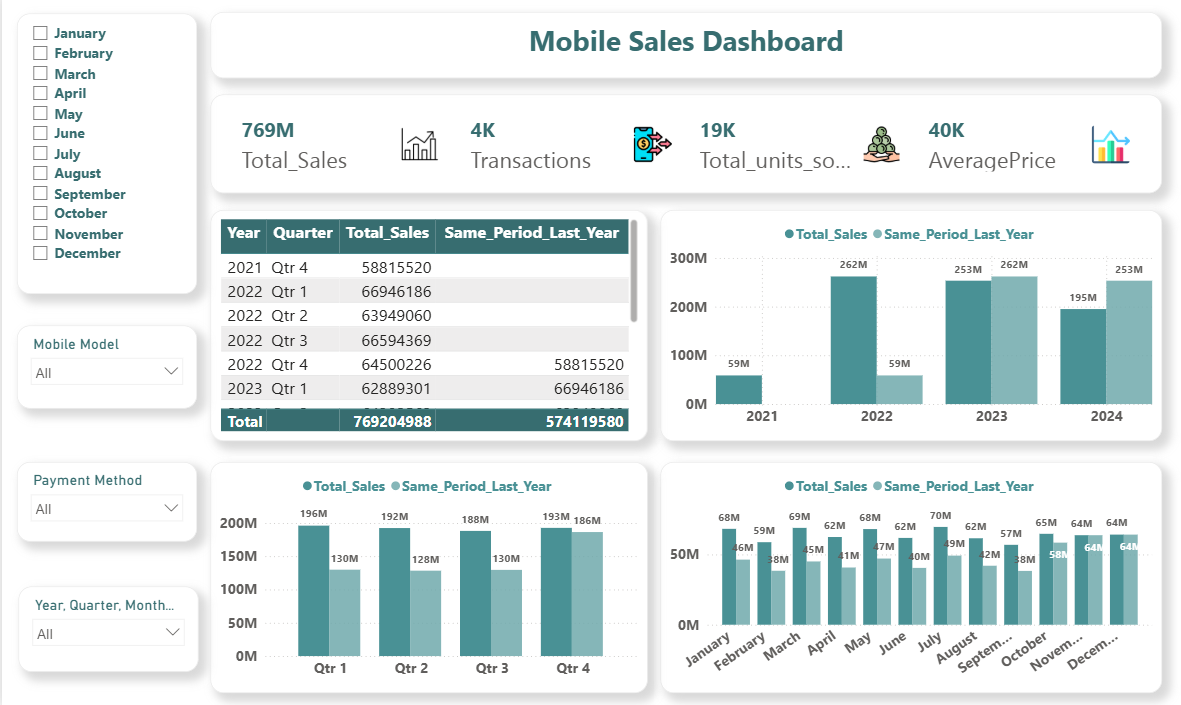

This screenshot's page, from the dashboard's own definition file:
{"tool":"powerbi","page":{"name":"Same_Period_LastYear","canvas":[1355,820],"ordinal":2},"visuals":[{"type":"slicer","fields":{"Values":["Custom_Calender.Date.Variation.Date Hierarchy.Month"]},"box":[17.4,21.7,206.5,321.7],"z":0},{"type":"cardVisual","fields":{"Data":["SalesData.Total_Sales","SalesData.Transactions","SalesData.Total_units_sold","SalesData.AveragePrice"]},"box":[239.6,115,1093,113.3],"z":1000},{"type":"slicer","fields":{"Values":["SalesData.Mobile Model"]},"box":[17.4,380.4,206.5,95.7],"z":2000},{"type":"slicer","fields":{"Values":["Custom_Calender.Date.Variation.Date Hierarchy.Year","Custom_Calender.Date.Variation.Date Hierarchy.Quarter","Custom_Calender.Date.Variation.Date Hierarchy.Month","Custom_Calender.Date.Variation.Date Hierarchy.Day"]},"box":[19.6,680.4,206.5,97.8],"z":3000},{"type":"slicer","fields":{"Values":["SalesData.Payment Method"]},"box":[17.4,537,206.5,91.3],"z":4000},{"type":"textbox","box":[239.6,21,1093,76.1],"z":5000},{"type":"tableEx","fields":{"Values":["Custom_Calender.Date.Variation.Date Hierarchy.Year","Custom_Calender.Date.Variation.Date Hierarchy.Quarter","SalesData.Total_Sales","SalesData.SPLY"]},"box":[239.1,247.8,502.2,265.2],"z":6000},{"type":"clusteredColumnChart","fields":{"Category":["Custom_Calender.Date.Variation.Date Hierarchy.Year","Custom_Calender.Date.Variation.Date Hierarchy.Quarter"],"Y":["SalesData.Total_Sales","SalesData.SPLY"]},"box":[756.5,247.8,576.1,265.2],"z":7000},{"type":"clusteredColumnChart","fields":{"Y":["SalesData.Total_Sales","SalesData.SPLY"],"Category":["Custom_Calender.Date.Variation.Date Hierarchy.Year","Custom_Calender.Date.Variation.Date Hierarchy.Quarter","Custom_Calender.Date.Variation.Date Hierarchy.Month","Custom_Calender.Date.Variation.Date Hierarchy.Day"]},"box":[756.5,537,576.1,265.2],"z":8000},{"type":"clusteredColumnChart","fields":{"Category":["Custom_Calender.Date.Variation.Date Hierarchy.Year","Custom_Calender.Date.Variation.Date Hierarchy.Quarter"],"Y":["SalesData.Total_Sales","SalesData.SPLY"]},"box":[239.1,537,502.2,265.2],"z":9000}]}

Visuals, with their boxes in screenshot pixels (x1, y1, x2, y2), scaled from the page's 1355x820 canvas onto the 1181x705 screenshot:
slicer - Custom_Calender.Date.Variation.Date Hierarchy.Month: [15, 19, 195, 295]
cardVisual - SalesData.Total_Sales x SalesData.Transactions: [209, 99, 1161, 196]
slicer - SalesData.Mobile Model: [15, 327, 195, 409]
slicer - Custom_Calender.Date.Variation.Date Hierarchy.Year x Custom_Calender.Date.Variation.Date Hierarchy.Quarter: [17, 585, 197, 669]
slicer - SalesData.Payment Method: [15, 462, 195, 540]
textbox: [209, 18, 1161, 83]
tableEx - Custom_Calender.Date.Variation.Date Hierarchy.Year x Custom_Calender.Date.Variation.Date Hierarchy.Quarter: [208, 213, 646, 441]
clusteredColumnChart - Custom_Calender.Date.Variation.Date Hierarchy.Year x Custom_Calender.Date.Variation.Date Hierarchy.Quarter: [659, 213, 1161, 441]
clusteredColumnChart - SalesData.Total_Sales x SalesData.SPLY: [659, 462, 1161, 690]
clusteredColumnChart - Custom_Calender.Date.Variation.Date Hierarchy.Year x Custom_Calender.Date.Variation.Date Hierarchy.Quarter: [208, 462, 646, 690]
